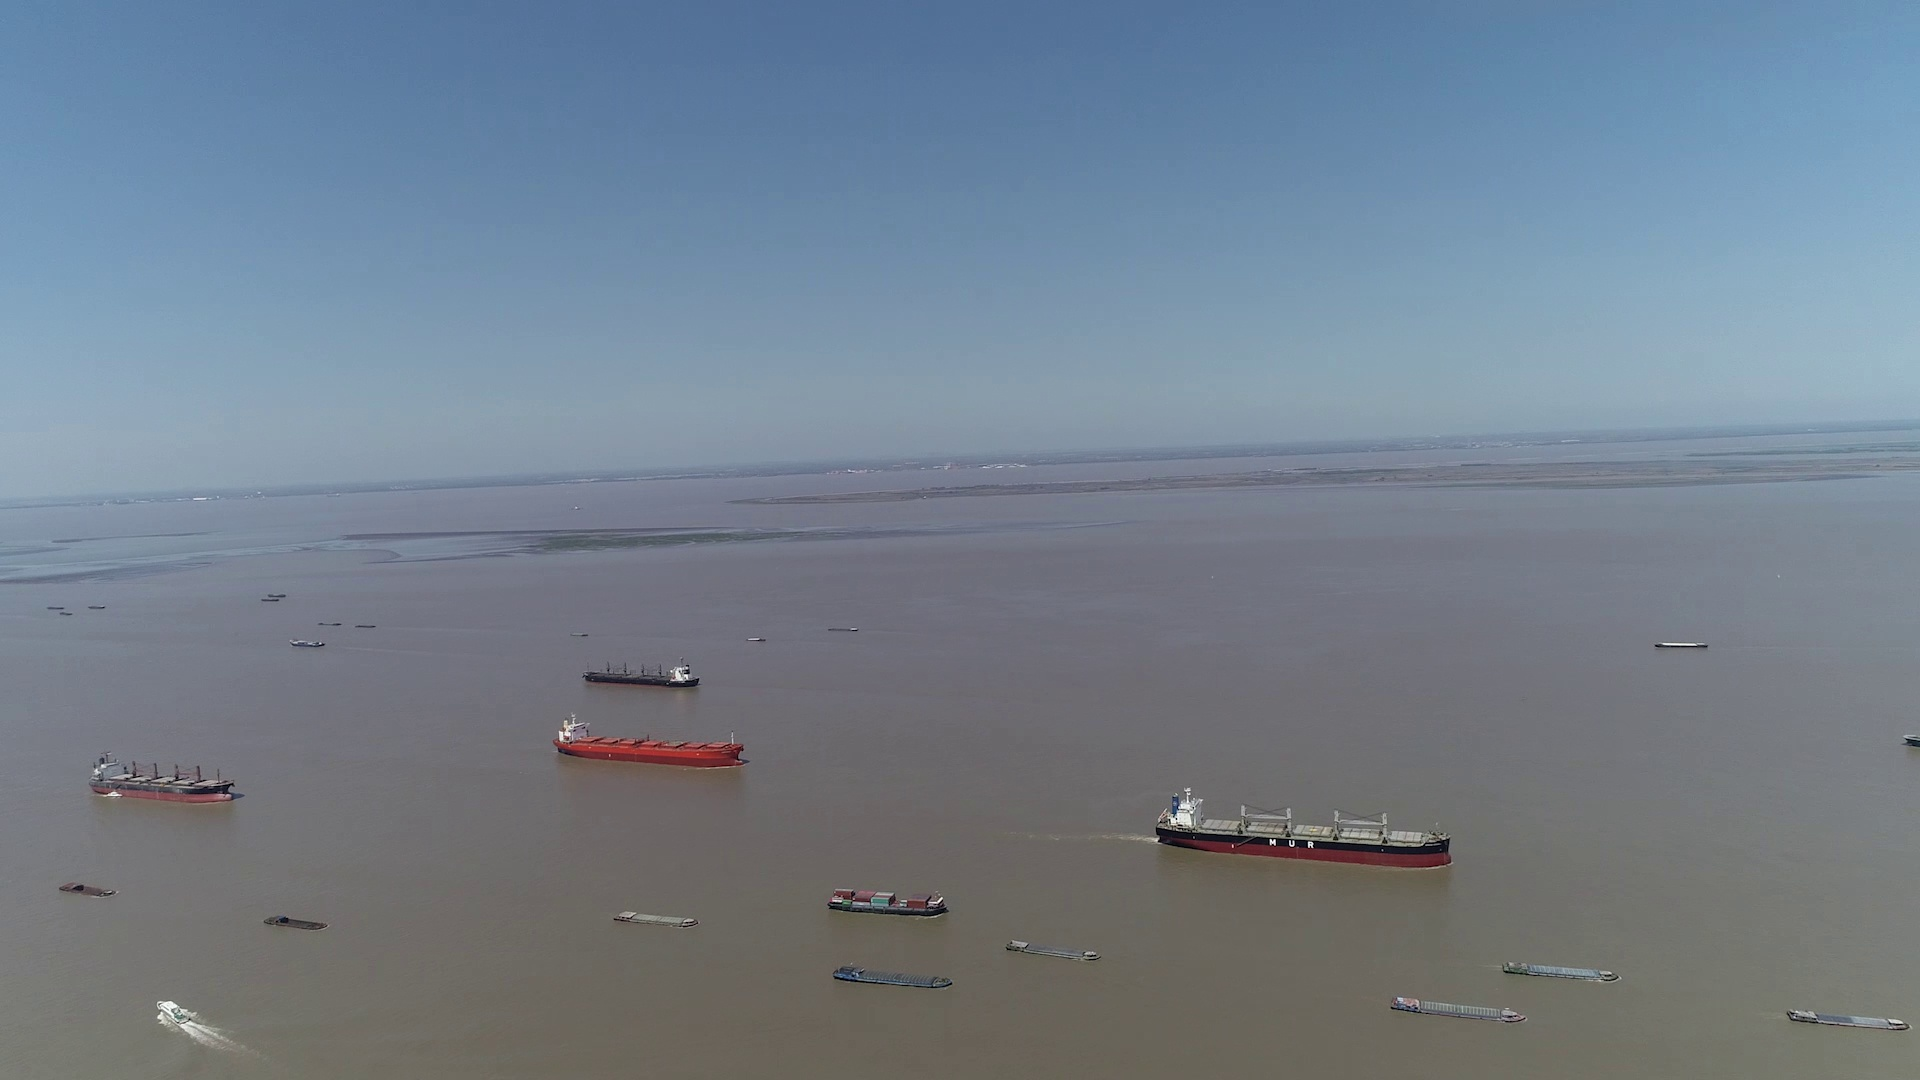ship: (1156, 789, 1453, 869), (555, 713, 748, 766), (88, 752, 233, 802), (827, 886, 948, 916), (583, 655, 700, 686), (832, 901, 955, 930), (1390, 996, 1524, 1022), (1785, 1007, 1909, 1030), (835, 965, 952, 988), (1503, 959, 1619, 981), (1005, 939, 1098, 961), (611, 910, 702, 927), (154, 998, 194, 1029), (266, 916, 328, 931), (55, 881, 113, 895), (1655, 640, 1706, 649), (293, 637, 326, 647)
